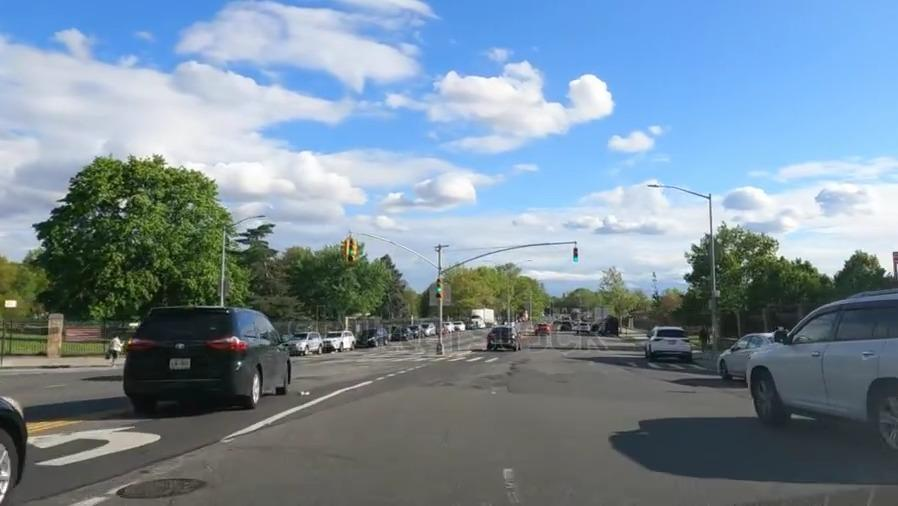car: (745, 299, 898, 430), (119, 307, 287, 409), (0, 385, 38, 494), (639, 324, 696, 371), (720, 330, 770, 376), (486, 324, 525, 351), (286, 329, 324, 356), (326, 328, 354, 351), (360, 328, 388, 346), (392, 326, 414, 342), (534, 324, 553, 336)
manhole: (110, 467, 209, 506)
pedestrian: (349, 351, 506, 367)
person: (103, 327, 123, 364), (697, 324, 711, 352)
rubbish: (297, 388, 308, 400)
traffic light: (339, 235, 359, 264), (567, 242, 582, 266), (435, 276, 447, 300)
wheel: (745, 364, 789, 427), (865, 383, 898, 450)
